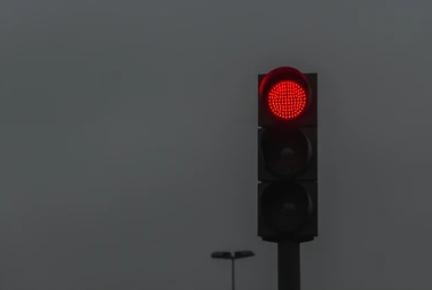red_light: (256, 66, 318, 244)
